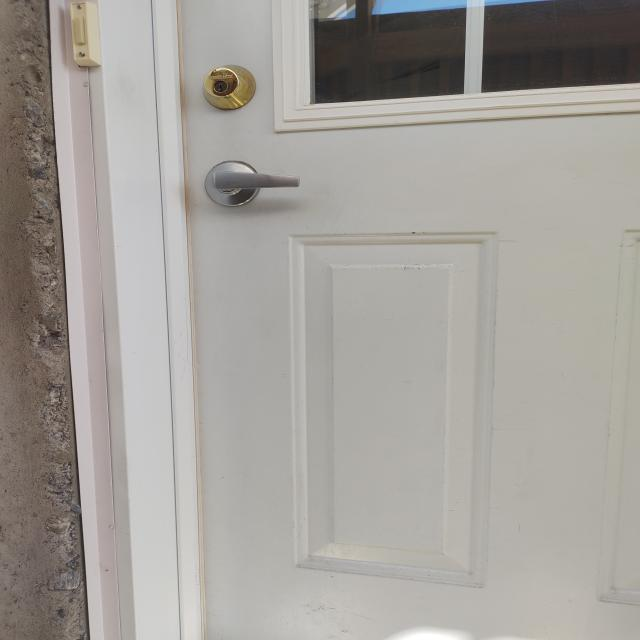door-handle: (205, 161, 299, 206)
